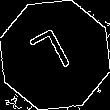L_SE: (29, 26, 81, 84)
